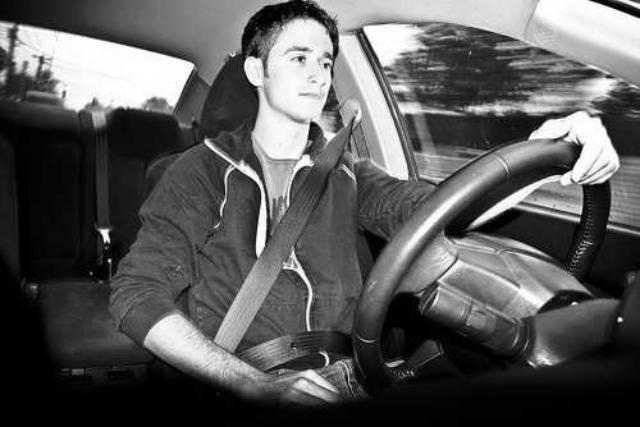SafeDriving: (284, 49, 312, 66), (317, 54, 334, 72)
Seatbelt: (209, 97, 359, 372)
